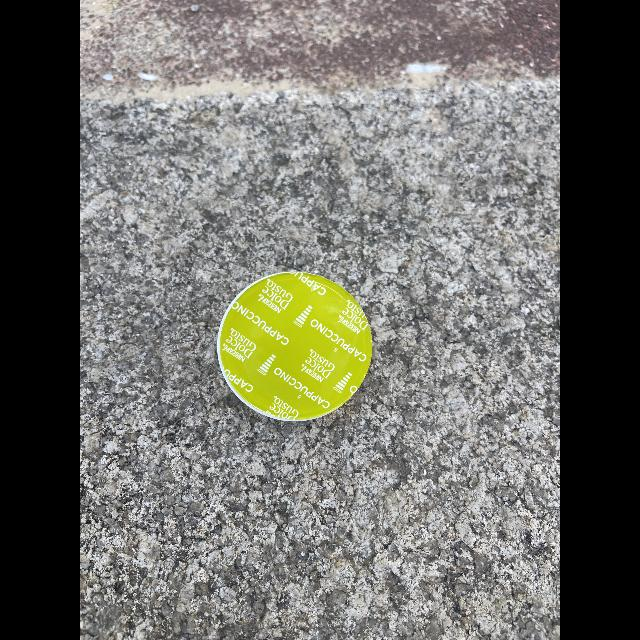intact_capsule: (210, 264, 386, 428)
